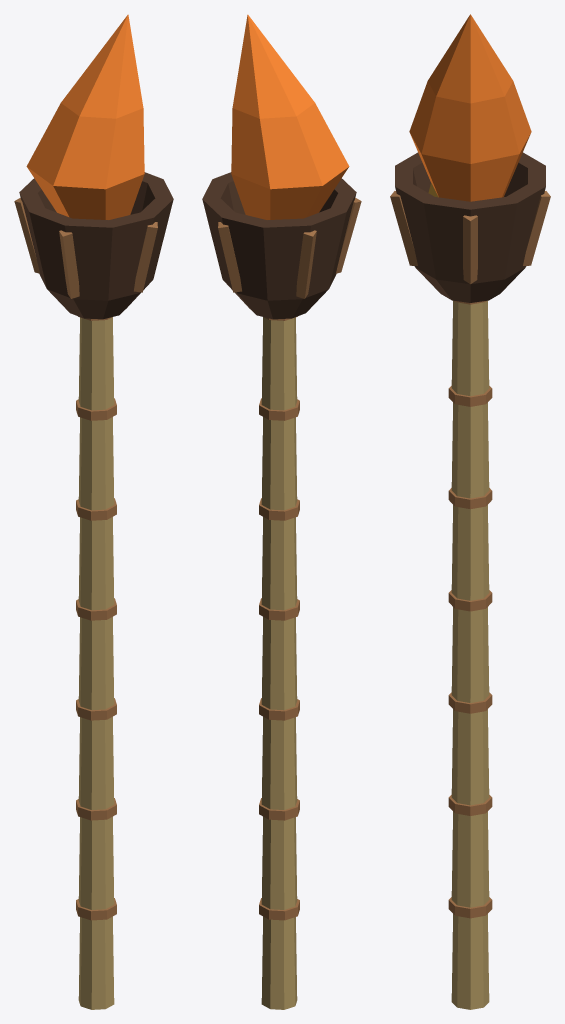
Rendered from tiki-torch.glb.
3 renders of one model, left to right at view 1: azimuth 30°, elevation 25°; view 2: azimuth 150°, elevation 25°; view 3: azimuth 270°, elevation 25°, orthographic. The views are drawn at different scales.
Visible parts, largest first — view 1: Simple orange flame, Dark carved torch cup, Bamboo pole segment 2, Bamboo pole segment 5, Bamboo pole segment 1, Bamboo pole segment 6, Bamboo pole segment 4, Bamboo pole segment 3, Bamboo pole segment 7, Cup carved ridge.003, Cup carved ridge.004, Cup carved ridge.002 (+6 smaller); view 2: Simple orange flame, Dark carved torch cup, Bamboo pole segment 2, Bamboo pole segment 5, Bamboo pole segment 1, Bamboo pole segment 6, Bamboo pole segment 4, Bamboo pole segment 3, Bamboo pole segment 7, Cup carved ridge.002, Cup carved ridge.001, Cup carved ridge.003 (+6 smaller); view 3: Simple orange flame, Dark carved torch cup, Bamboo pole segment 3, Bamboo pole segment 6, Bamboo pole segment 2, Bamboo pole segment 7, Bamboo pole segment 5, Bamboo pole segment 1, Bamboo pole segment 4, Cup carved ridge, Cup carved ridge.001, Cup carved ridge.004 (+6 smaller).
Boxes of the visible parts, box(x1,y1,x2,y2) form: Simple orange flame: box(26, 14, 144, 219); Dark carved torch cup: box(19, 172, 173, 319); Bamboo pole segment 2: box(78, 816, 114, 909); Bamboo pole segment 5: box(78, 517, 114, 610); Bamboo pole segment 1: box(78, 916, 114, 1009); Bamboo pole segment 6: box(78, 417, 114, 510); Bamboo pole segment 4: box(78, 617, 114, 710); Bamboo pole segment 3: box(78, 716, 114, 809); Bamboo pole segment 7: box(78, 317, 114, 410); Cup carved ridge.003: box(59, 230, 79, 298); Cup carved ridge.004: box(134, 222, 157, 292); Cup carved ridge.002: box(14, 197, 39, 273); Simple orange flame: box(231, 14, 349, 219); Dark carved torch cup: box(202, 172, 356, 319); Bamboo pole segment 2: box(261, 816, 297, 909); Bamboo pole segment 5: box(261, 517, 297, 610); Bamboo pole segment 1: box(261, 916, 297, 1009); Bamboo pole segment 6: box(261, 417, 297, 510); Bamboo pole segment 4: box(261, 617, 297, 710); Bamboo pole segment 3: box(261, 716, 297, 809); Bamboo pole segment 7: box(261, 317, 297, 410); Cup carved ridge.002: box(296, 230, 316, 298); Cup carved ridge.001: box(218, 222, 241, 292); Cup carved ridge.003: box(336, 197, 361, 273); Simple orange flame: box(409, 14, 531, 201); Dark carved torch cup: box(395, 152, 545, 302); Bamboo pole segment 3: box(451, 709, 489, 805); Bamboo pole segment 6: box(451, 402, 489, 498); Bamboo pole segment 2: box(451, 811, 489, 907); Bamboo pole segment 7: box(451, 300, 489, 396); Bamboo pole segment 5: box(451, 505, 489, 600); Bamboo pole segment 1: box(451, 914, 489, 1009); Bamboo pole segment 4: box(451, 607, 489, 702); Cup carved ridge: box(463, 215, 477, 283); Cup carved ridge.001: box(523, 191, 550, 265); Cup carved ridge.004: box(390, 191, 417, 265).
Size of the model in its own units: 0.3924 by 2.65 by 0.385.
